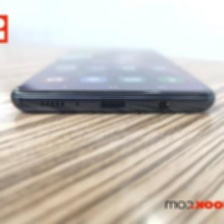phone: (6, 41, 217, 118)
